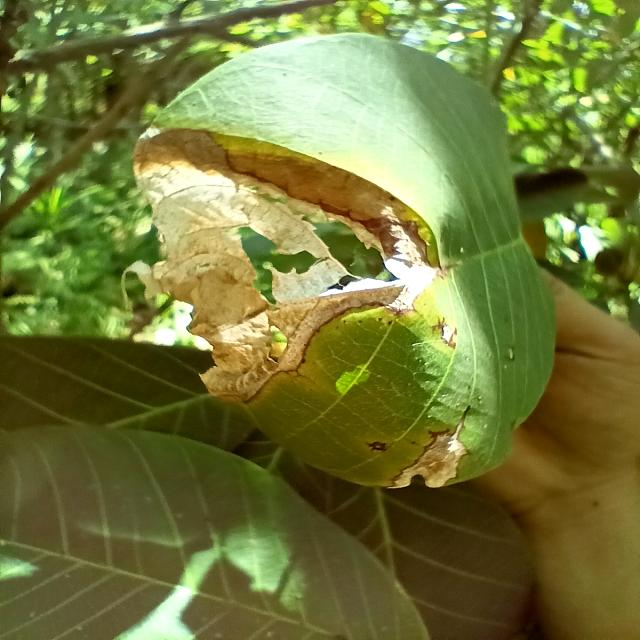Corynespora: (452, 406, 473, 436), (364, 439, 390, 454)
Leaf-Blight: (122, 128, 442, 406), (388, 425, 468, 488), (444, 325, 453, 342)
